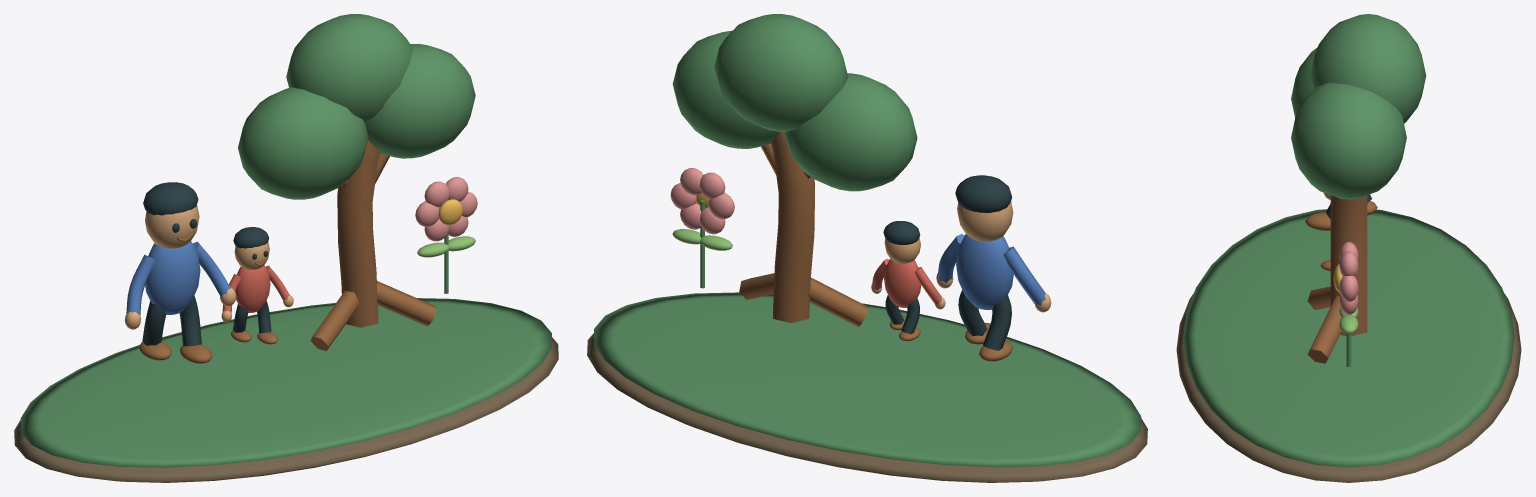
Rendered from public-park.glb.
The picture shows the model from 3 angles, left to right: view 1: azimuth 30°, elevation 25°; view 2: azimuth 150°, elevation 25°; view 3: azimuth 270°, elevation 25°; orthographic projection. The views are drawn at different scales.
Parts seen in each view (by area): view 1: public-park_surface_01, public-park_surface_04, public-park_surface_00, public-park_surface_05, public-park_surface_03, public-park_surface_02, public-park_surface_07, public-park_surface_09, public-park_surface_06; view 2: public-park_surface_01, public-park_surface_00, public-park_surface_04, public-park_surface_03, public-park_surface_05, public-park_surface_07, public-park_surface_02, public-park_surface_09, public-park_surface_06; view 3: public-park_surface_01, public-park_surface_00, public-park_surface_04, public-park_surface_07, public-park_surface_06.
Boxes of the visible parts, x1,y1,x2,y2 form: public-park_surface_01: (20,14,552,467); public-park_surface_04: (139,140,436,363); public-park_surface_00: (14,337,558,482); public-park_surface_05: (126,241,230,315); public-park_surface_03: (142,182,271,346); public-park_surface_02: (124,205,293,329); public-park_surface_07: (415,177,477,241); public-park_surface_09: (222,265,289,312); public-park_surface_06: (417,236,475,257); public-park_surface_01: (593,14,1141,467); public-park_surface_00: (587,333,1147,482); public-park_surface_04: (739,132,1012,361); public-park_surface_03: (883,175,1012,350); public-park_surface_05: (938,234,1045,309); public-park_surface_07: (670,168,734,234); public-park_surface_02: (871,201,1051,312); public-park_surface_09: (872,258,941,307); public-park_surface_06: (672,229,732,250); public-park_surface_01: (1183,14,1514,467); public-park_surface_00: (1176,293,1521,482); public-park_surface_04: (1305,195,1377,363); public-park_surface_07: (1339,242,1358,314); public-park_surface_06: (1339,307,1358,333).
Bounding box in the file's own units: 4.56 × 3.06 × 2.5.
